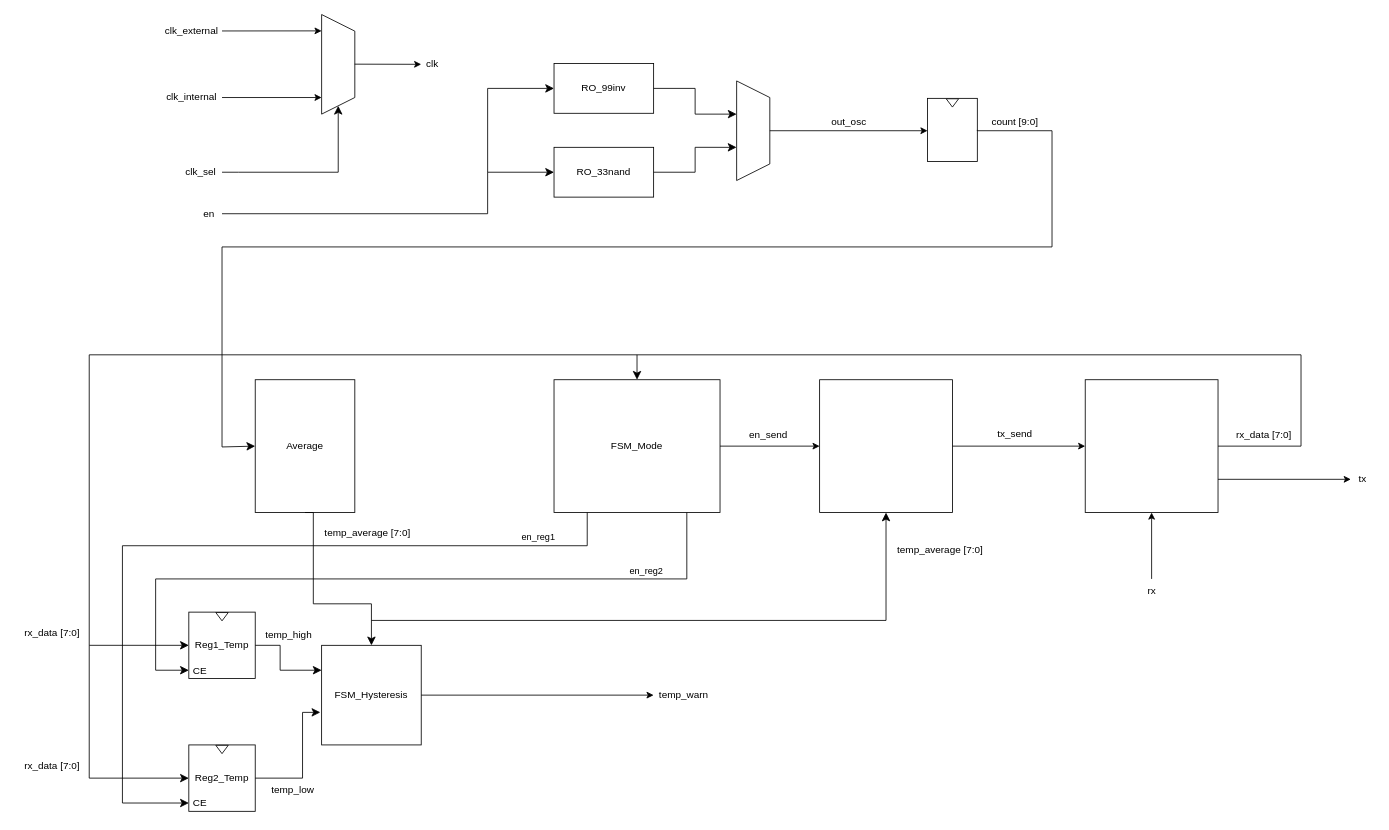
This 1389x830 diagram has some shape labels left out. The shapes that lost their labels are listed below. From the top down, each one's box as (x1, y1, x2, y2) in pixels, then its label:
(927, 98, 977, 161): Counter
(819, 379, 952, 513): FSM_SendData
(1084, 379, 1218, 513): UART
